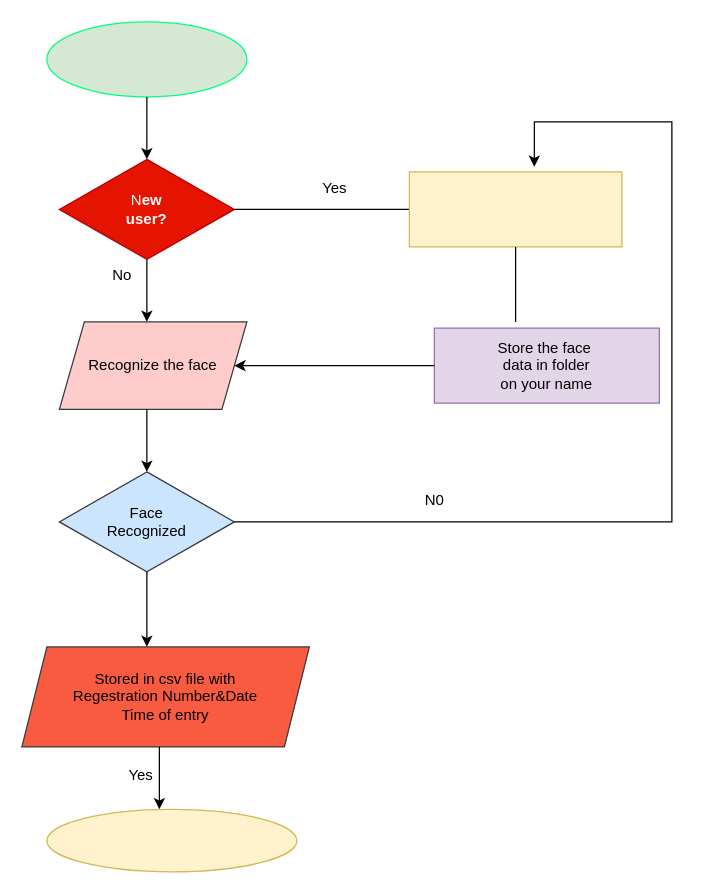
Some shapes in this 704 by 894 pixel diagram are drawn without their labels. The box of each missing label's shape, as (x1, y1, x2, y2) in pixels:
End: (46, 808, 297, 872)
Give your Photograph: (408, 171, 622, 247)
Start: (46, 21, 247, 97)
